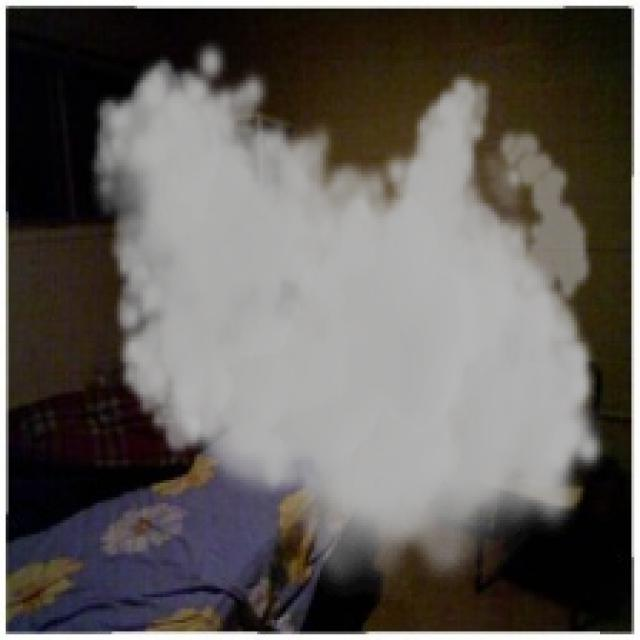smoke: (89, 37, 608, 600)
